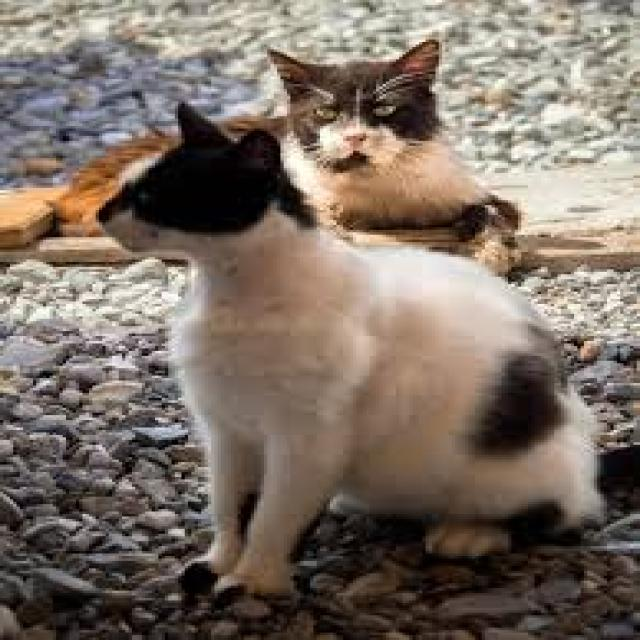cat: (100, 109, 637, 594), (220, 40, 519, 271), (0, 130, 174, 247)
